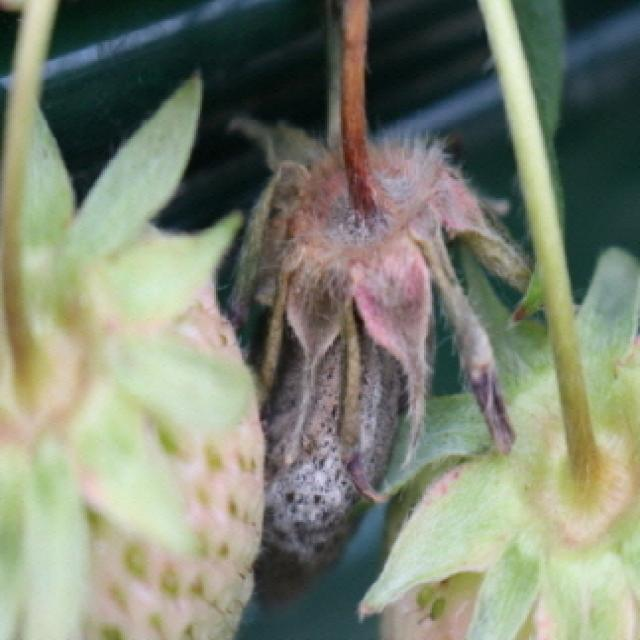Gray Mold: (222, 103, 536, 614)
